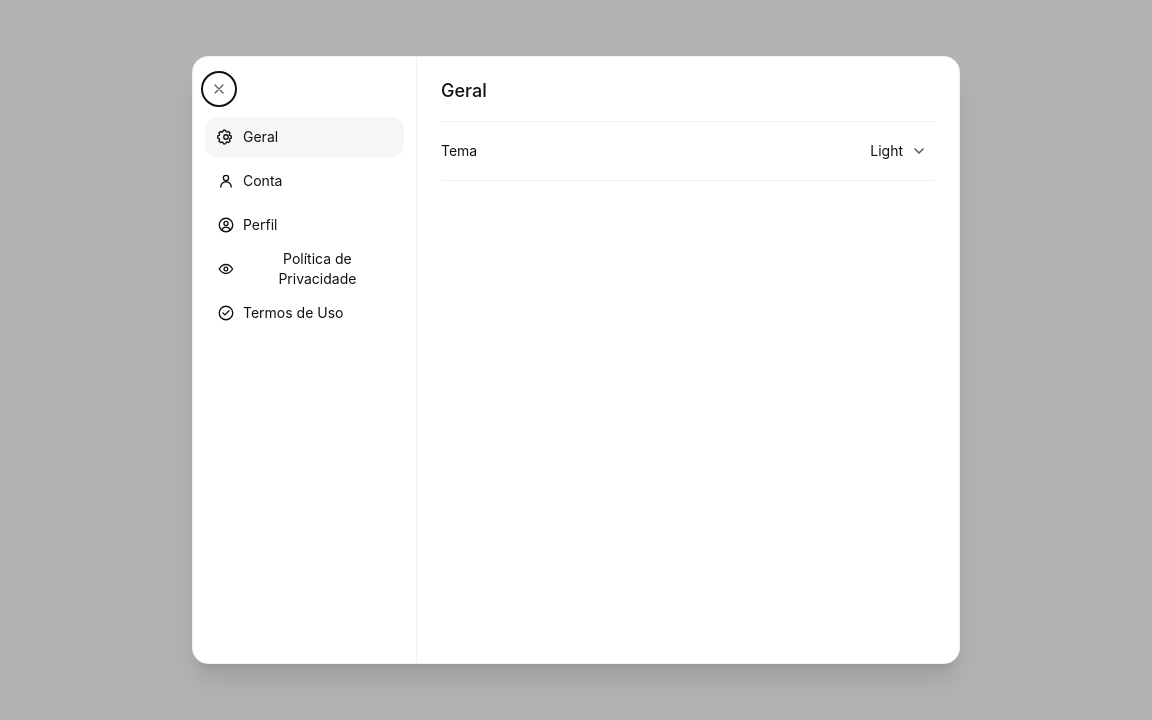
Test: SettingsDialog › shows account details without a profile summary or account identifier
This screenshot has width=1152, height=720.
Expected: the 4th icon is shown, [217, 172, 235, 190]
What coordinates should you click on to do the following:
click the button "Conta"
I would click on:
 (304, 181)
Its box is [205, 161, 404, 201].
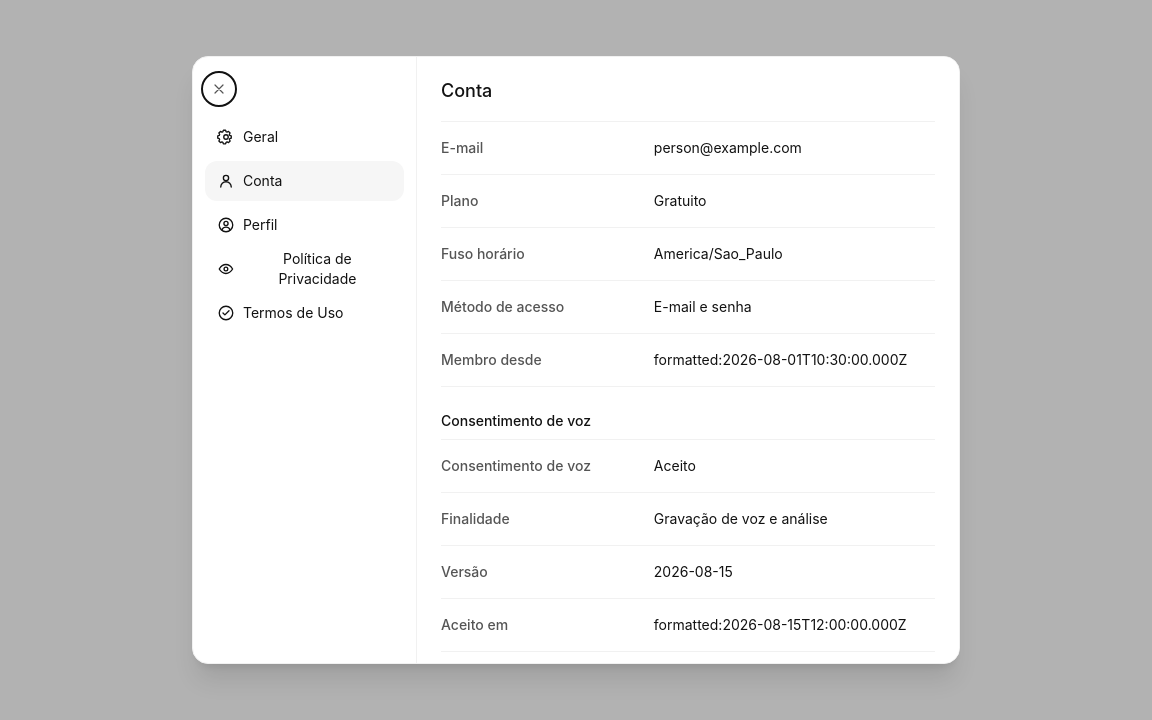
Expected: the heading "Conta" is shown, [441, 80, 492, 101]
Expected: the text "person@example.com" is shown once, [654, 139, 802, 156]
Expected: the text "Gratuito" is shown once, [654, 192, 706, 209]
